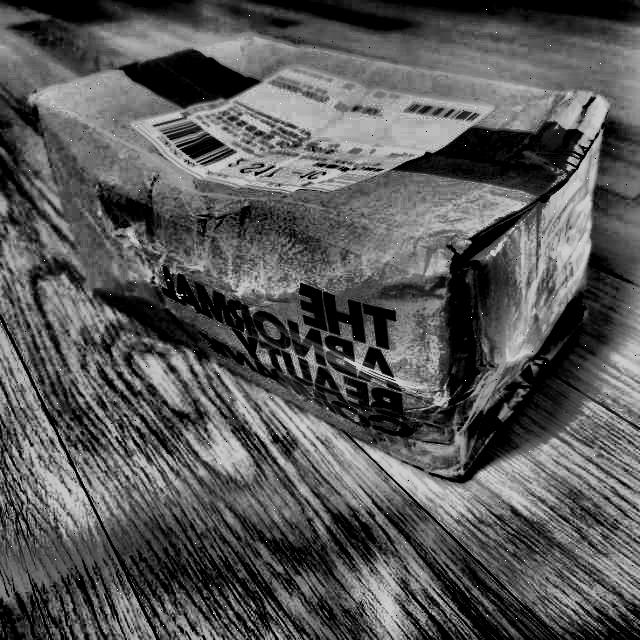box: (19, 22, 614, 505)
hole: (446, 237, 498, 449)
